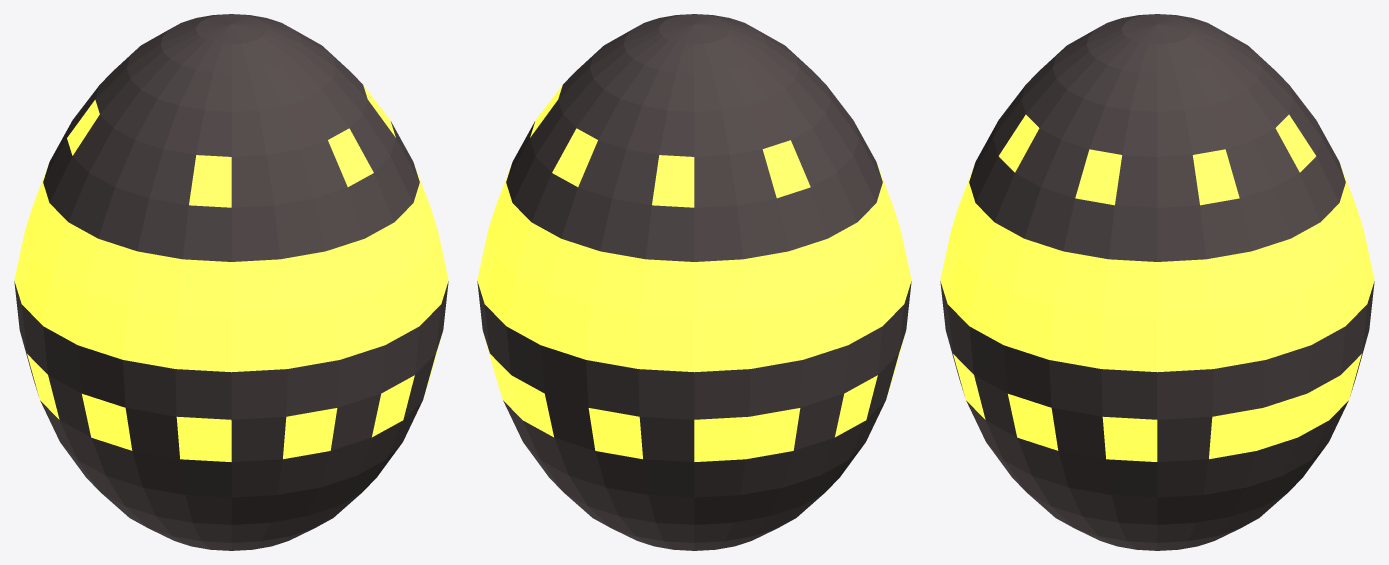
The model's file is Egg_magma.fbx.
3 renders of one model, left to right at view 1: azimuth 30°, elevation 25°; view 2: azimuth 150°, elevation 25°; view 3: azimuth 270°, elevation 25°, orthographic.
Visible parts, largest first — view 1: Egg_magma; view 2: Egg_magma; view 3: Egg_magma.
Part boxes in pixels (left/top/right/bottom): Egg_magma: left=14, top=14, right=448, bottom=550; Egg_magma: left=477, top=14, right=911, bottom=550; Egg_magma: left=940, top=14, right=1374, bottom=550.
Bounding box in the file's own units: 28 × 36.4 × 28.
